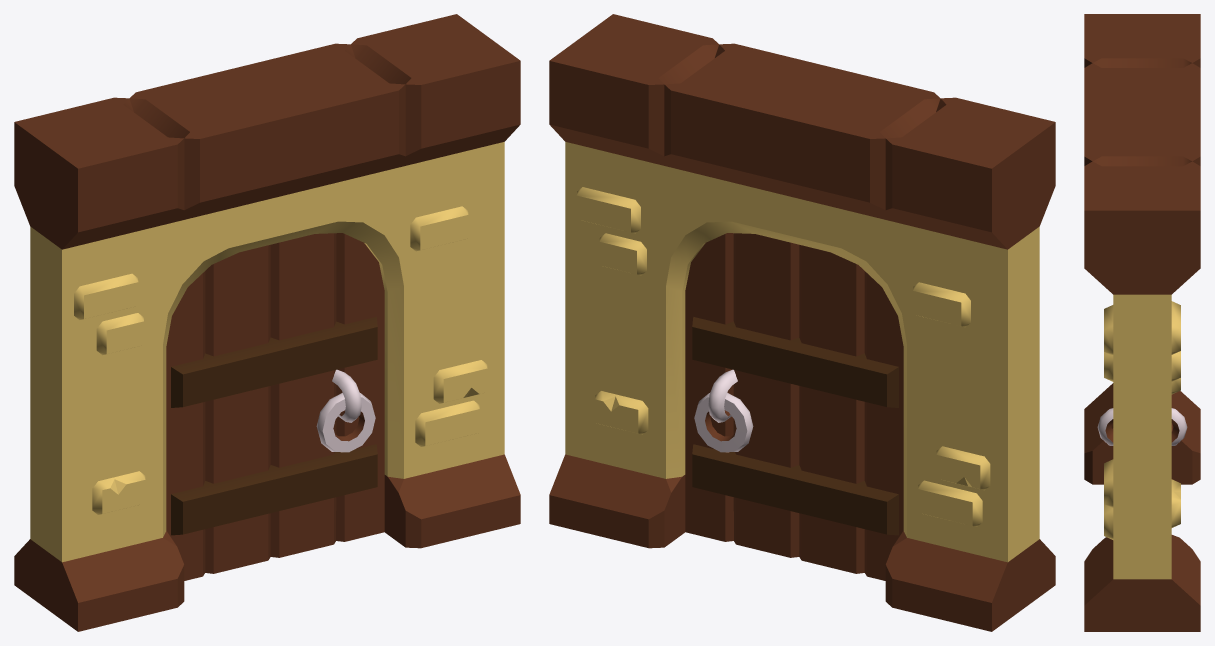
File: wall_door.fbx
The picture shows the model from 3 angles, left to right: view 1: azimuth 30°, elevation 25°; view 2: azimuth 150°, elevation 25°; view 3: azimuth 270°, elevation 25°; orthographic projection. The views are drawn at different scales.
Parts seen in each view (by area): view 1: wall_doorway, wall_doorway_door; view 2: wall_doorway, wall_doorway_door; view 3: wall_doorway, wall_doorway_door.
Boxes of the visible parts, x1,y1,x2,y2 form: wall_doorway: [14, 14, 520, 631]; wall_doorway_door: [166, 233, 384, 580]; wall_doorway: [549, 14, 1055, 631]; wall_doorway_door: [685, 233, 903, 580]; wall_doorway: [1084, 14, 1200, 631]; wall_doorway_door: [1097, 408, 1187, 445].
Size of the model in its own units: 400 by 400 by 100.
